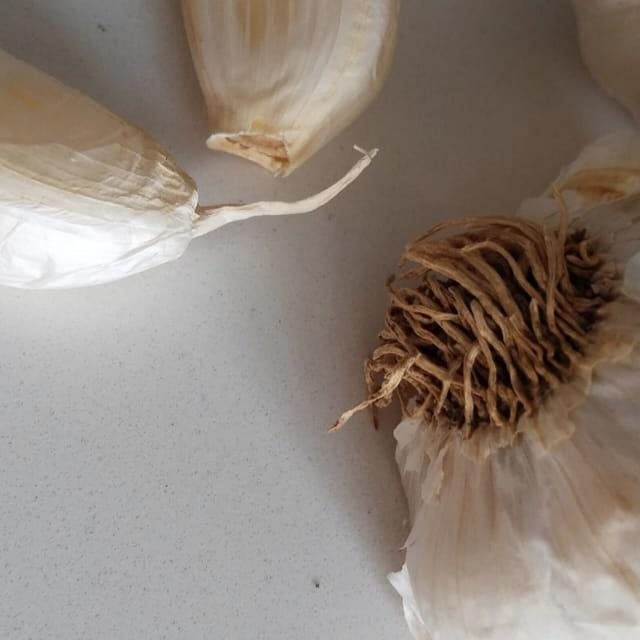garlic: (296, 133, 640, 640), (0, 0, 210, 333), (126, 0, 421, 206)
